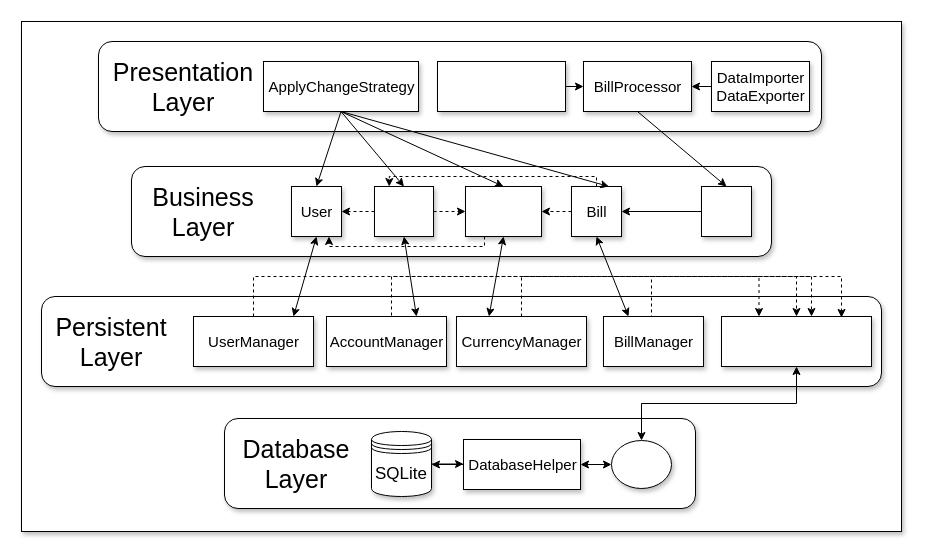
Image size: 925x556. Some labels were removed from this diagram. Each missing label, with the centre of its shape:
"Account" belongs at pixel 405 213.
"Currency" belongs at pixel 504 213.
"DataVisualization" belongs at pixel 502 87.
"ItemManager <T>" belongs at pixel 797 343.
"ORM" belongs at pixel 642 466.
"Query" belongs at pixel 727 213.
